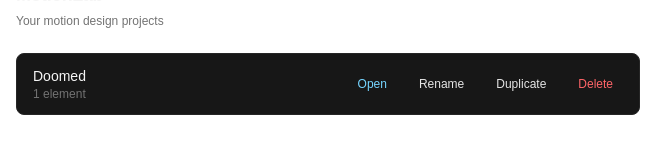
Test: ProjectList — delete › deletes a project and removes it from the list and repository
This screenshot has width=657, height=160.
Step 1. Click the button with aria-label "Delete Doomed" → coordinates (596, 84), box top-left (568, 72), bottom-right (623, 96)
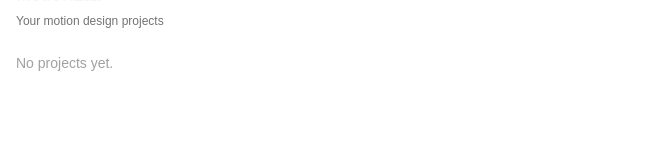
Result: the text "No projects yet." is shown at top-left (16, 55), bottom-right (113, 71)
